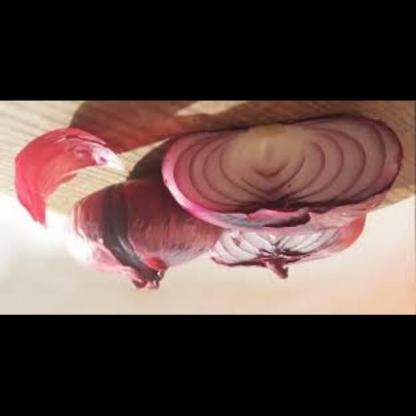onion: (158, 114, 404, 240), (67, 172, 216, 300), (15, 124, 136, 230), (194, 222, 366, 275)
